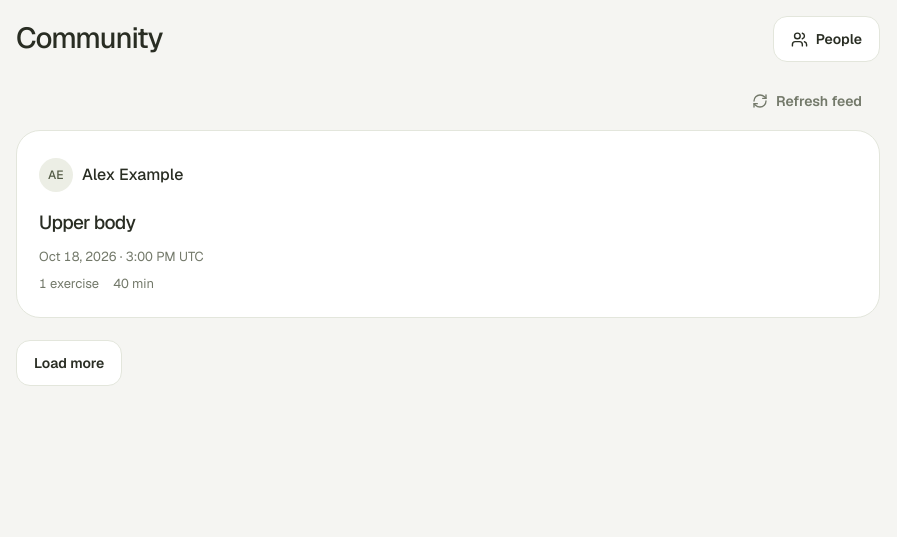
Test: CommunityScreen › deduplicates publication IDs across feed pages
Expected: the heading "Upper body" is shown, [39,210,135,235]
What coordinates should you click on to do the following:
click the button "Load more"
I would click on:
 (69, 363)
Its box is [16,340,122,386].
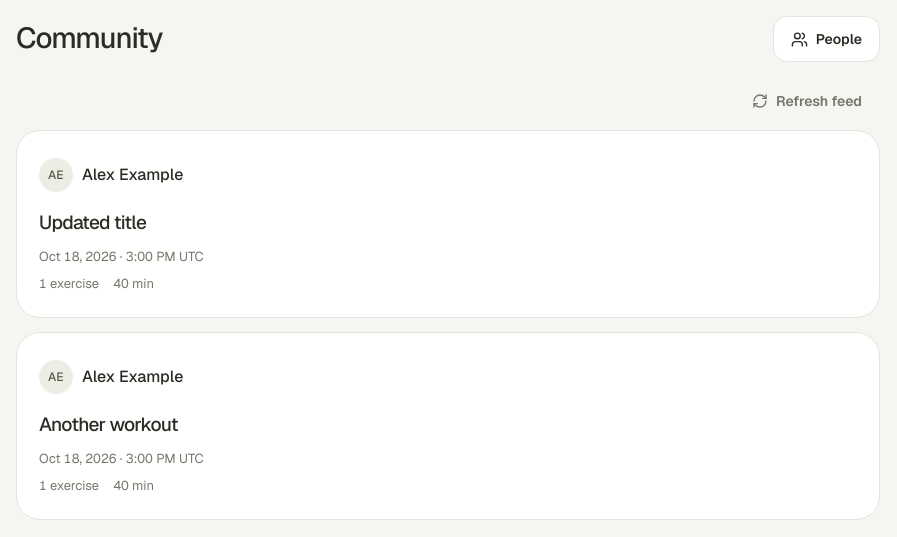
Expected: the heading "Updated title" is shown, [39,210,146,235]
Expected: the number of buttons named "Updated title workout by Alex Example" is 1, [39,211,857,295]
Expected: the heading "Another workout" is shown, [39,412,178,437]
